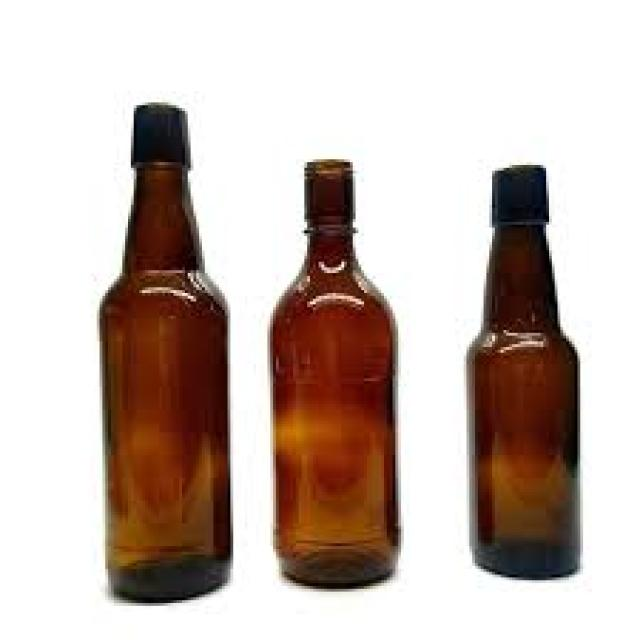glass: (100, 170, 228, 597), (270, 159, 395, 583), (466, 225, 577, 575)
